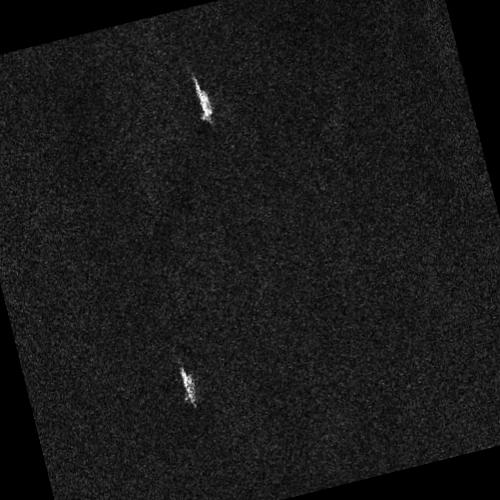ship: (194, 77, 213, 120), (180, 369, 196, 407)
